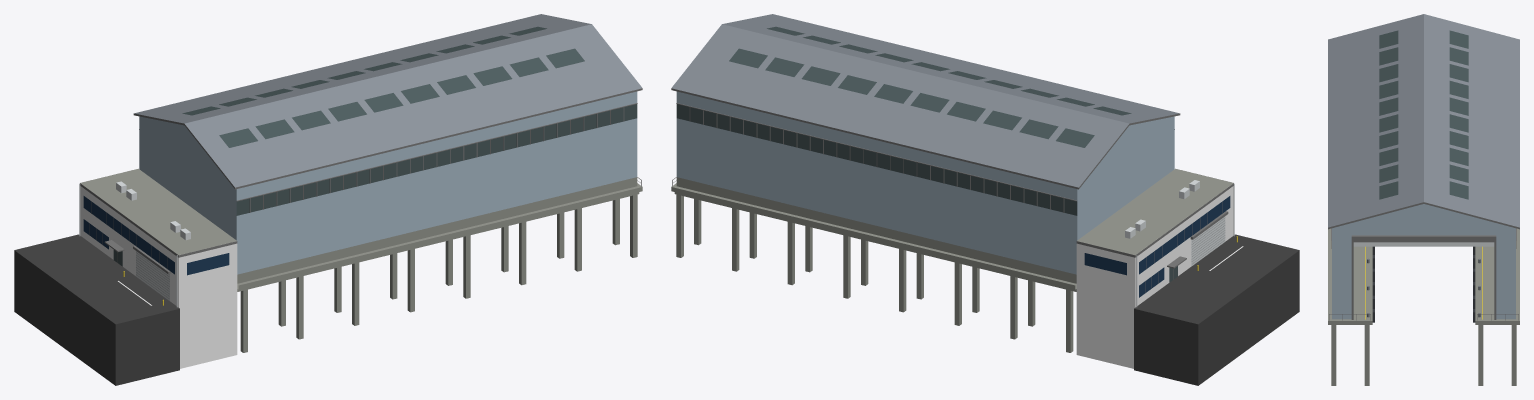
File: top-prebuilt_close.fbx
3 views of the same model, side by side, from view 1: azimuth 30°, elevation 25°; view 2: azimuth 150°, elevation 25°; view 3: azimuth 270°, elevation 25° (orthographic). The views are drawn at different scales.
Visible parts, largest first — view 1: a1092/0/top-prebuilt_close; view 2: a1092/0/top-prebuilt_close; view 3: a1092/0/top-prebuilt_close.
Boxes of the visible parts, <box> form: a1092/0/top-prebuilt_close: <box>14,14,642,385</box>; a1092/0/top-prebuilt_close: <box>671,14,1299,385</box>; a1092/0/top-prebuilt_close: <box>1328,14,1519,385</box>.
Bounding box in the file's own units: 90 × 32 × 30.
